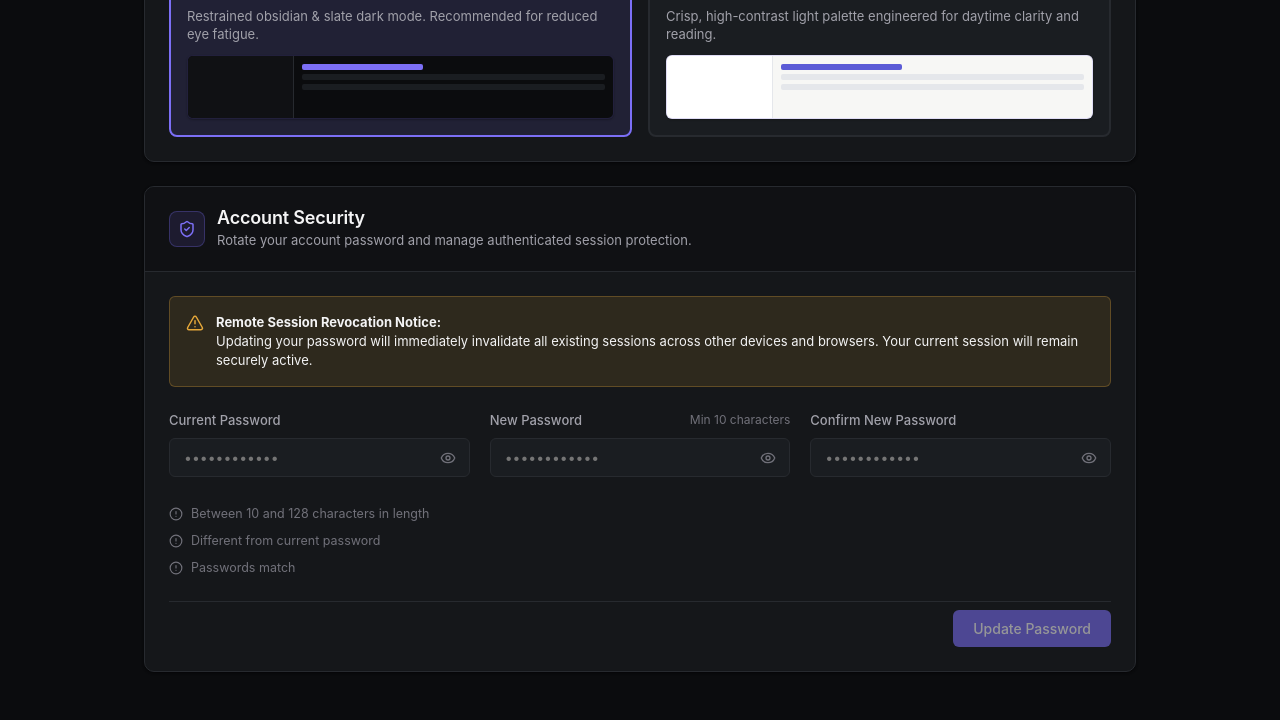
Phase 4.6: Settings & Profile Frontend Slice › 4. Account Security & Password Rotation › submits password change and clears inputs upon success
(page scrolled)
Type "CurrentSecret123!" into the password field with placeholder "••••••••••••" at (319, 458), box [169,438,470,477]
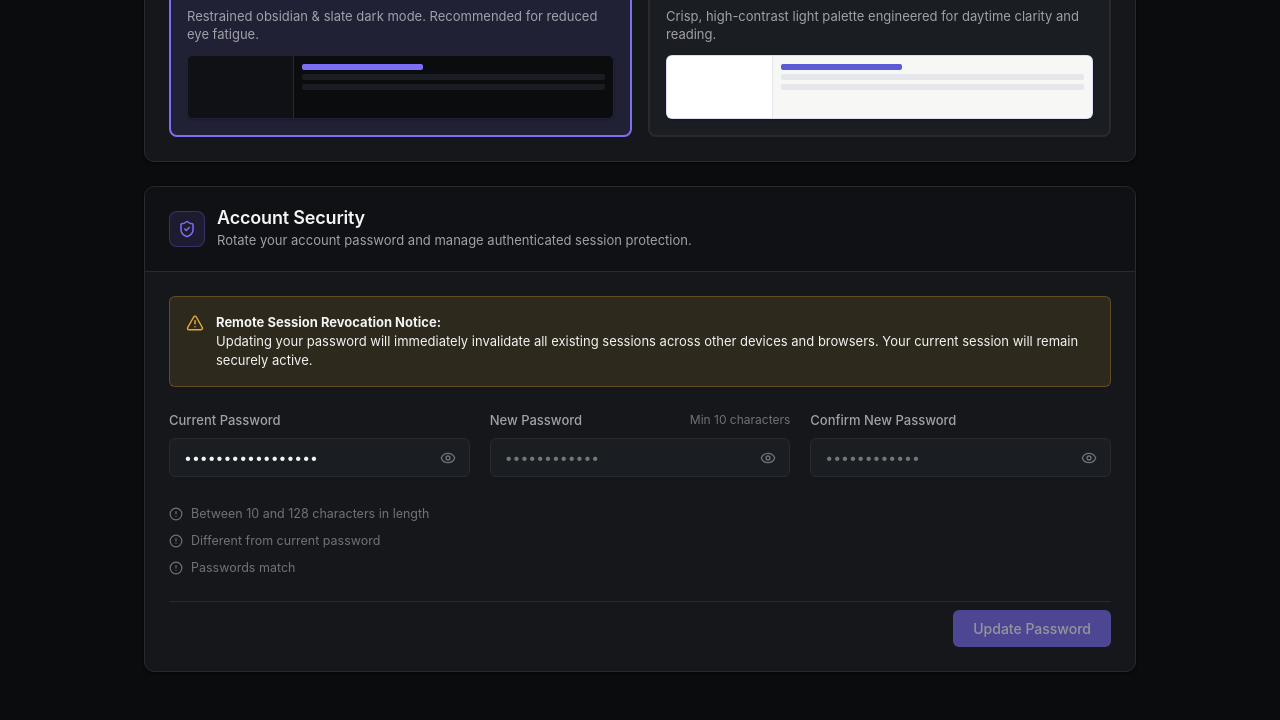
Type "BrandNewSecret456!" into the password field with placeholder "••••••••••••" at (640, 458), box [490,438,790,477]
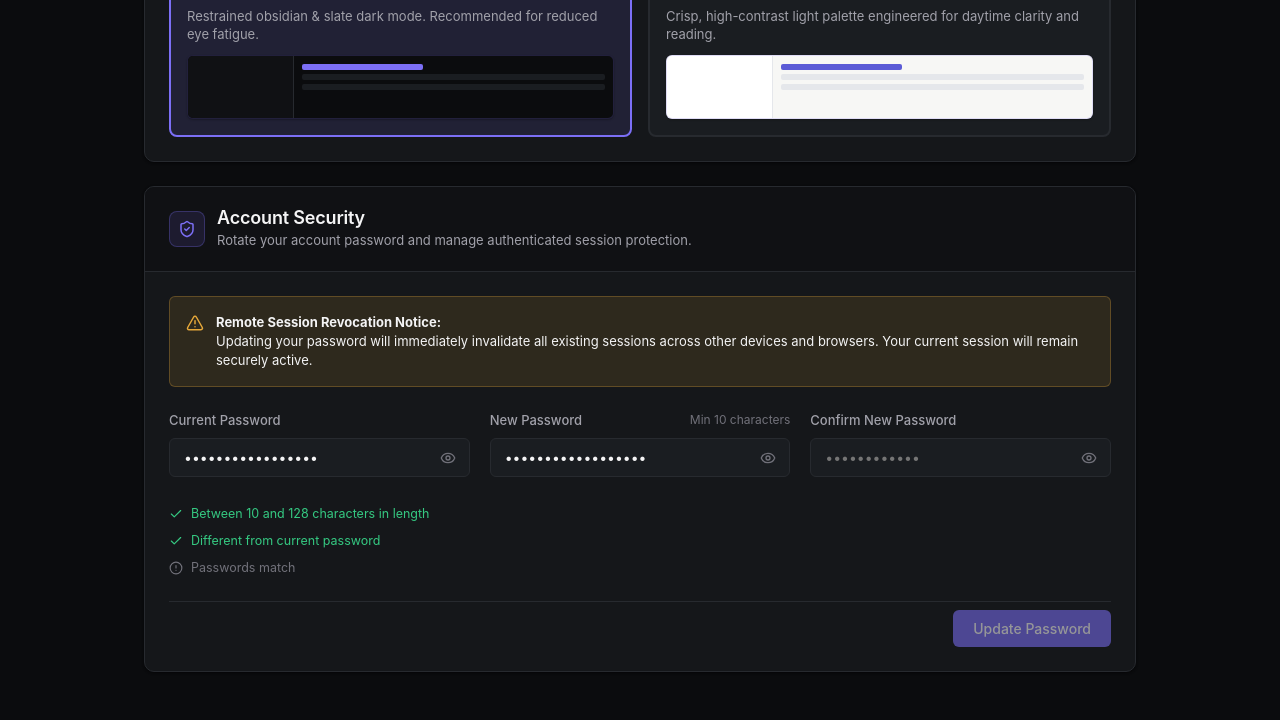
Type "BrandNewSecret456!" into the password field with placeholder "••••••••••••" at (961, 458), box [810,438,1111,477]
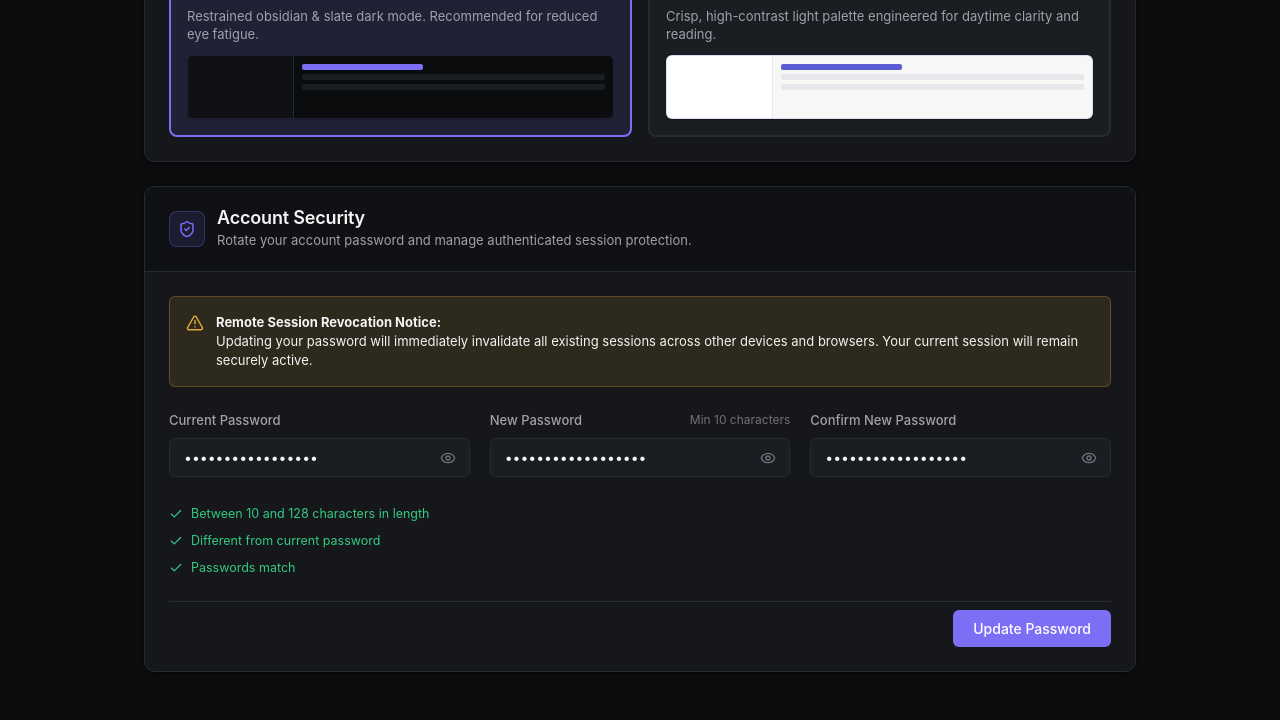
Click the button "Update Password" at (1032, 629), box [953,610,1111,647]
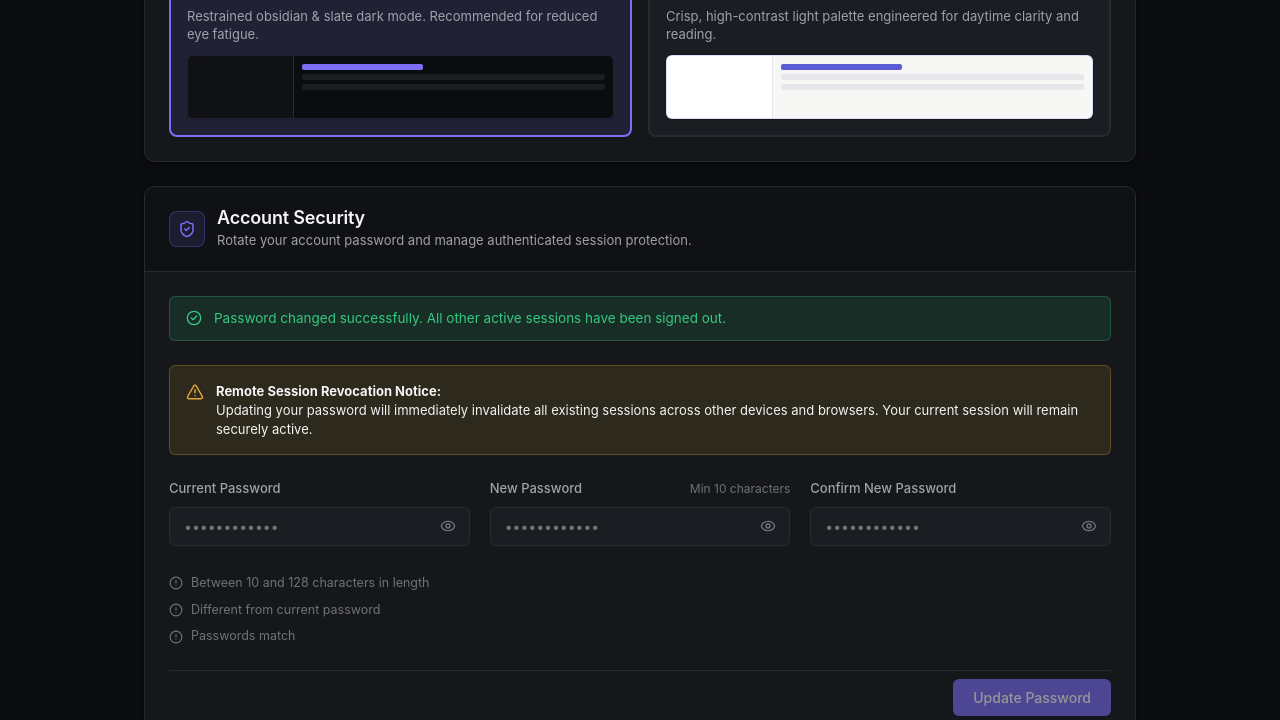
Expected: the text "All other active sessions have been signed out" is shown, [214,310,726,326]
Expected: the password field with placeholder "••••••••••••" is empty, [169,507,470,546]
